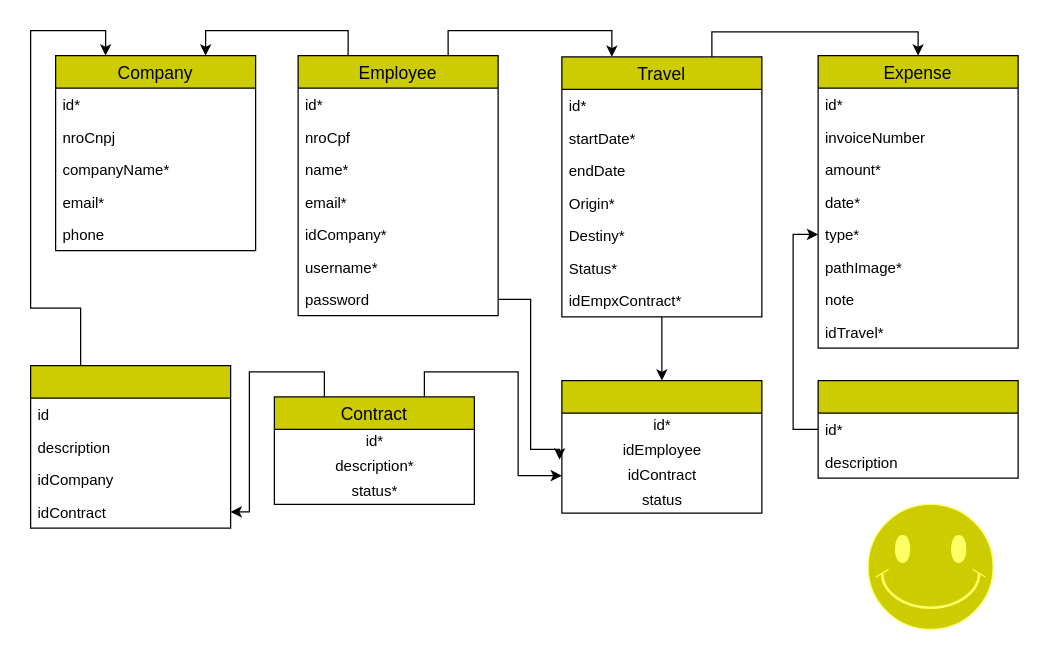
This 1040x651 diagram has some shape labels left out. The box of each missing label's shape, as (x1, y1, x2, y2) in pixels:
CostCenter: (29, 364, 231, 528)
EmpxContract: (561, 379, 762, 513)
ExpenseType: (817, 379, 1018, 478)
